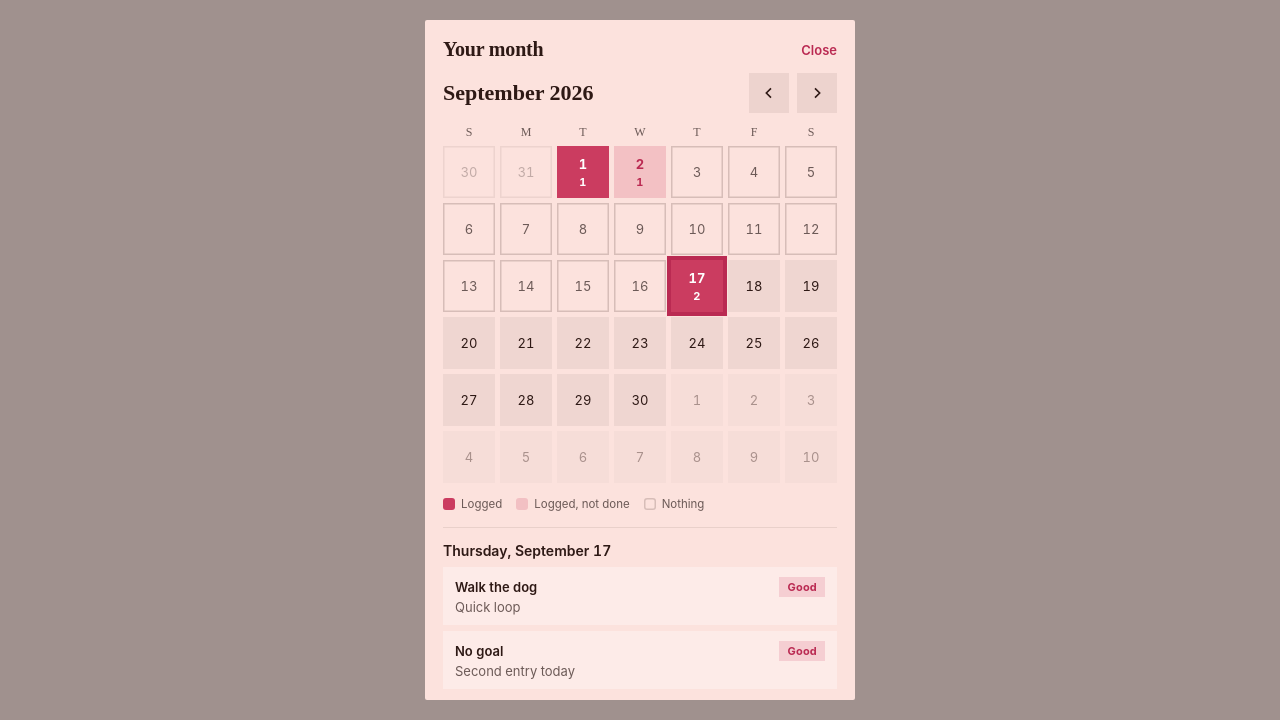
Test: CalendarModal › pages to the previous month and refetches that range
The image size is (1280, 720).
Click the button named "Previous month".
click(769, 93)  # box [749,73,789,113]
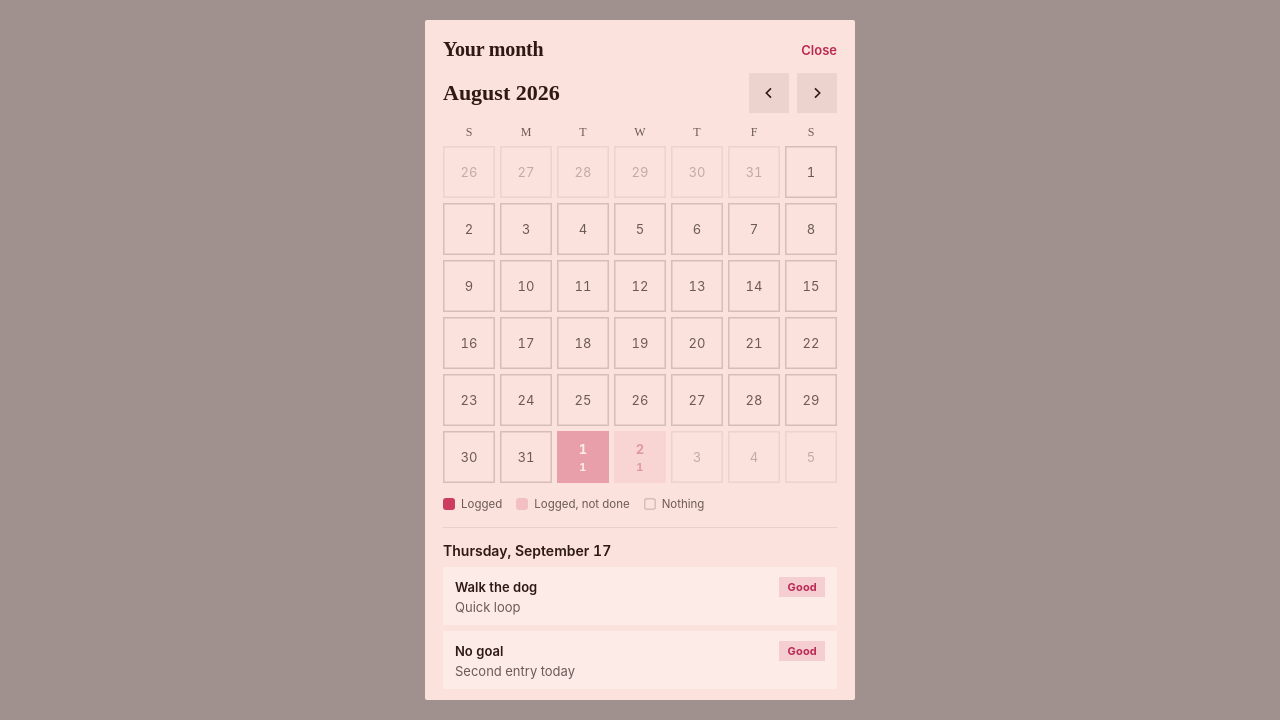
Now the heading "August 2026" is shown, box [443,80,560,105]
